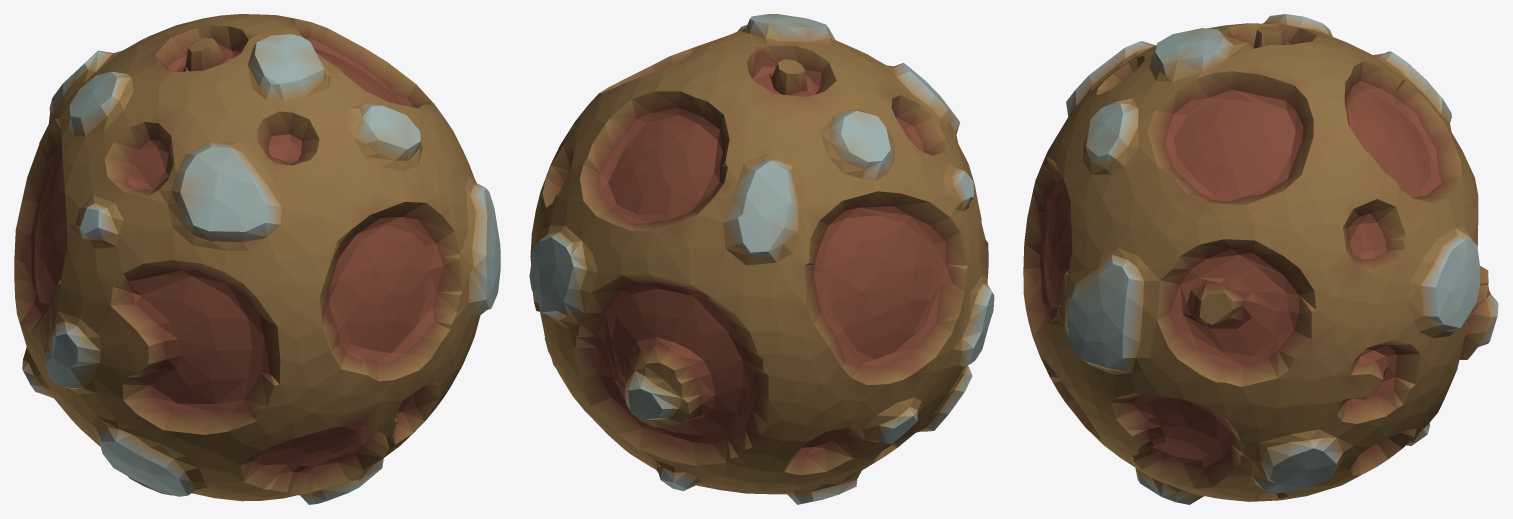
3 renders of one model, left to right at view 1: azimuth 30°, elevation 25°; view 2: azimuth 150°, elevation 25°; view 3: azimuth 270°, elevation 25°, orthographic. The views are drawn at different scales.
Visible parts, largest first — view 1: 4, 2, 3; view 2: 4, 2, 3; view 3: 4, 2, 3.
Part boxes in pixels (left/top/right/bottom): 4: left=14, top=14, right=480, bottom=501; 2: left=23, top=38, right=443, bottom=475; 3: left=22, top=34, right=500, bottom=504; 4: left=530, top=27, right=988, bottom=494; 2: left=563, top=66, right=951, bottom=455; 3: left=529, top=14, right=994, bottom=504; 4: left=1023, top=21, right=1490, bottom=501; 2: left=1037, top=42, right=1466, bottom=468; 3: left=1064, top=14, right=1498, bottom=504.
Bounding box in the file's own units: 4895 × 5055 × 4880.
